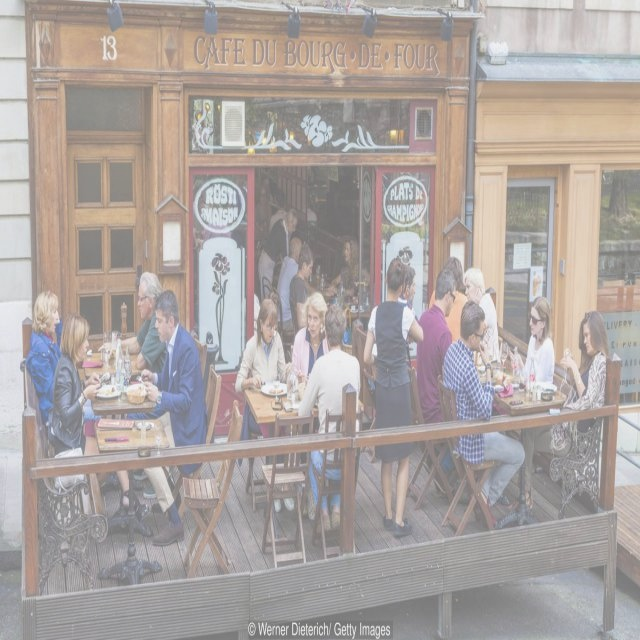pessoa: (504, 307, 613, 524), (51, 312, 150, 529), (439, 296, 528, 534), (358, 252, 426, 542), (135, 287, 208, 548), (295, 302, 363, 537), (234, 293, 296, 515), (23, 288, 102, 435), (192, 175, 248, 360), (244, 98, 410, 156), (416, 266, 456, 496), (508, 295, 556, 482), (98, 269, 168, 375), (462, 266, 502, 364), (257, 209, 298, 304), (291, 292, 331, 389), (428, 255, 469, 344), (275, 235, 303, 334), (288, 243, 316, 337), (326, 233, 359, 310), (396, 264, 420, 347), (254, 184, 274, 276), (267, 188, 291, 258), (359, 233, 376, 314), (254, 164, 282, 209), (306, 188, 319, 226)
